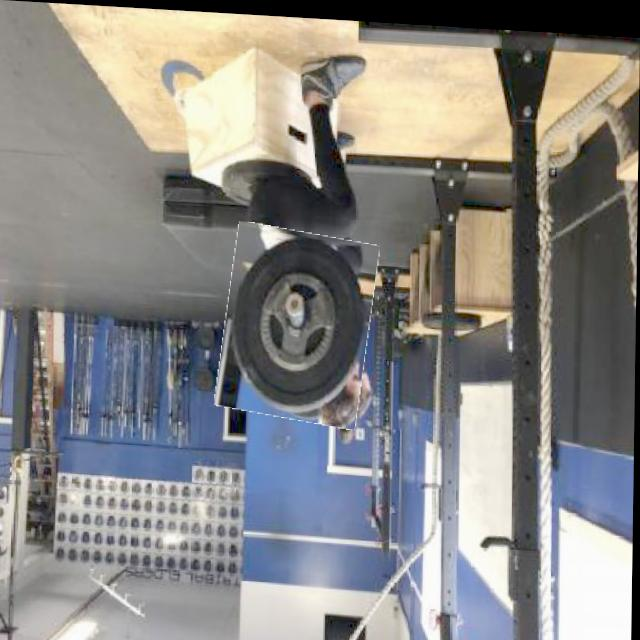barbell: (221, 222, 376, 423)
